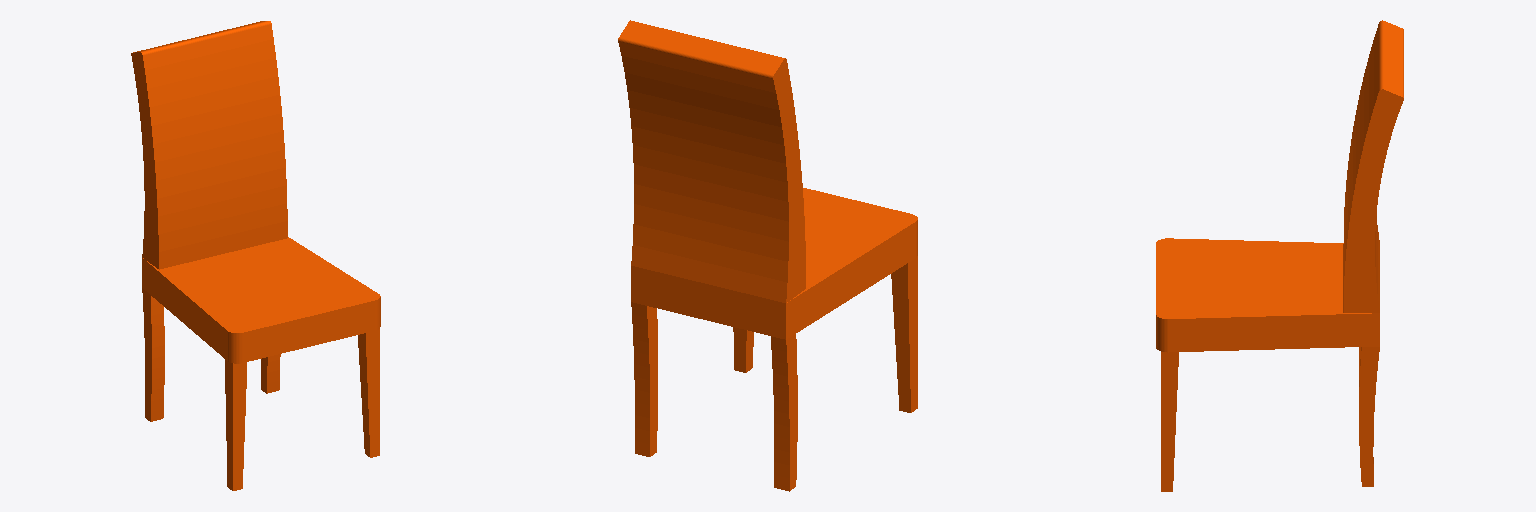
robot.urdf — Chair_af11b00ca8473f80ba583e4a8a12371c:
<?xml version="1.0" ?>
<robot name="Chair_af11b00ca8473f80ba583e4a8a12371c">
   <material name="obj_color">
      <color rgba="1.0 0.423529411765 0.0392156862745 1.0"/>
   </material>
   <link name="top">
      <inertial>
         <origin rpy="0.001622632615538331 0.004199873604516549 0.004390144351492571" xyz="-0.0002745918868764006 -0.01674964440129188 -0.03348833733603607"/>
         <mass value="1.28379762148717"/>
         <inertia ixx="0.004390143650209869" ixy="-5.783306548100692e-07" ixz="-1.037539428062064e-06" iyy="0.003911259132544025" iyz="-0.0008127306203169525" izz="0.001911247788793552"/>
      </inertial>
      <visual>
         <origin rpy="0 0 0" xyz="0 0 0"/>
         <geometry>
            <mesh filename="top_watertight_tiny.stl" scale="1 1 1"/>
         </geometry>
         <material name="obj_color"/>
      </visual>
      <collision>
         <origin rpy="0 0 0" xyz="0 0 0"/>
         <geometry>
            <mesh filename="top_watertight_tiny.obj" scale="1 1 1"/>
         </geometry>
      </collision>
   </link>
   <link name="bottom">
      <inertial>
         <origin rpy="1.633333333199431e-08 1.633333333199431e-08 1.633333333362855e-08" xyz="0.3464080000000008 0.3464080000000008 0.3464080000000008"/>
         <mass value="0.0009800000000000017"/>
         <inertia ixx="1.633333333253906e-08" ixy="5.447480642029219e-19" ixz="5.447480642029219e-19" iyy="1.633333333253906e-08" iyz="5.447480642029219e-19" izz="1.633333333253906e-08"/>
      </inertial>
      <visual>
         <origin rpy="0 0 0" xyz="0 0 0"/>
         <geometry>
            <mesh filename="bottom_watertight_tiny.stl" scale="1 1 1"/>
         </geometry>
         <material name="obj_color"/>
      </visual>
   </link>
   <link name="world"/>
   <joint name="world_to_base" type="fixed">
      <origin xyz="0 0 0"/>
      <axis xyz="0 0 0"/>
      <parent link="world"/>
      <child link="bottom"/>
   </joint>
   <joint name="rotation" type="revolute">
      <origin xyz="0 0 0"/>
      <axis xyz="0 0 -1"/>
      <parent link="bottom"/>
      <child link="top"/>
      <dynamics damping="1.0" friction="1.0"/>
      <limit effort="0.1" velocity="0.1" lower="0" upper="0.001"/>
   </joint>
</robot>

--- What the picture shows (computed from the rendered views, not written in the file) ---
The picture shows the robot from 3 angles, left to right: view 1: azimuth 30°, elevation 25°; view 2: azimuth 150°, elevation 25°; view 3: azimuth 270°, elevation 25°; orthographic projection.
Robot: Chair_af11b00ca8473f80ba583e4a8a12371c — 3 links, 2 joints (1 revolute, 1 fixed); root link world; default pose: every joint at zero.
Links seen in each view (by area): view 1: top; view 2: top; view 3: top.
Boxes of the visible links, left/top/right/bottom form: top: left=131, top=21, right=380, bottom=490; top: left=618, top=20, right=917, bottom=491; top: left=1156, top=20, right=1403, bottom=491.
Size in the robot's own frame: 0.0892 by 0.1154 by 0.2042 metres.
Meshes: 2 distinct files referenced, 1 mesh visuals loaded (1 binary STL); not drawn: 1 (reference not matched to a file when rendering).
